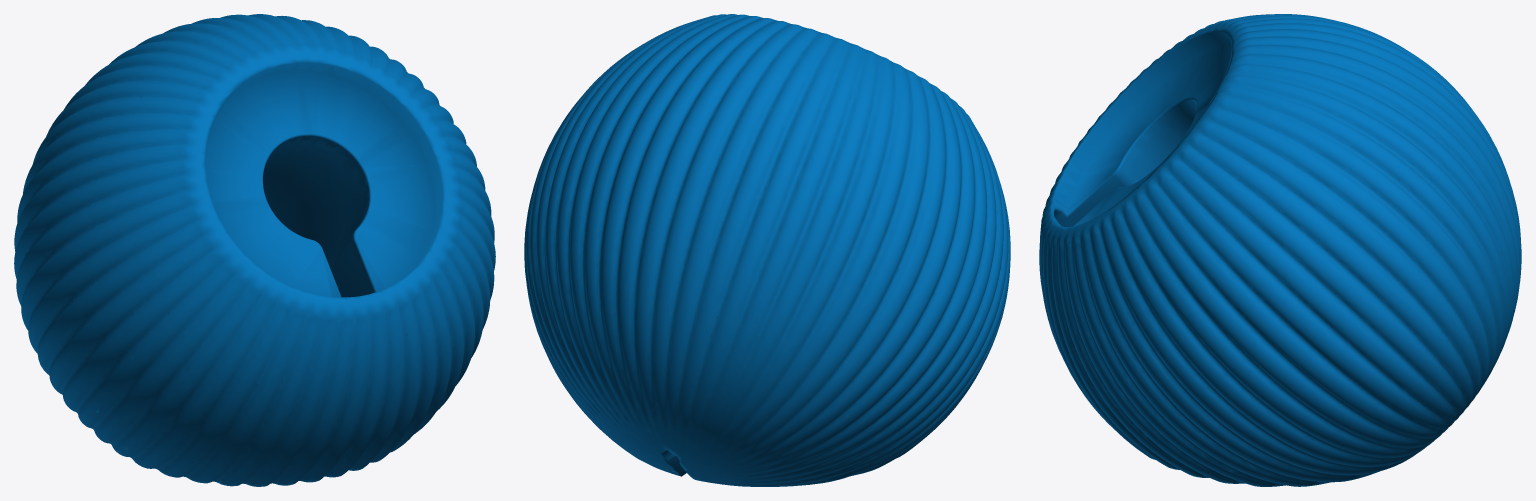
File: sarj-standi-yivli.glb
The picture shows the model from 3 angles, left to right: view 1: azimuth 30°, elevation 25°; view 2: azimuth 150°, elevation 25°; view 3: azimuth 270°, elevation 25°; orthographic projection.
Visible parts, largest first — view 1: Body; view 2: Body; view 3: Body.
Boxes of the visible parts, x1=… form: Body: x1=14, y1=14, x2=495, y2=486; Body: x1=524, y1=14, x2=1010, y2=486; Body: x1=1039, y1=14, x2=1521, y2=486.
Bounding box in the file's own units: 0.1058 × 0.0931 × 0.1058.
